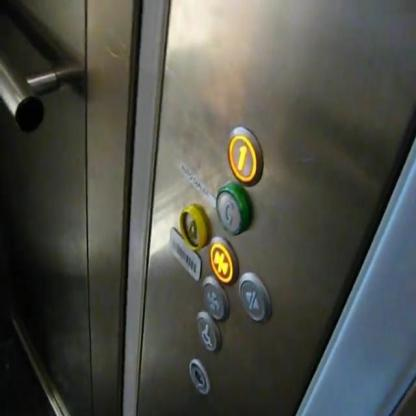1: (226, 126, 263, 186)
CH: (194, 310, 221, 352)
G: (216, 181, 250, 235)
alarm: (178, 202, 210, 250)
close: (209, 236, 239, 286)
fan: (199, 276, 230, 323)
keyhole: (188, 357, 209, 396)
open: (237, 270, 271, 322)
